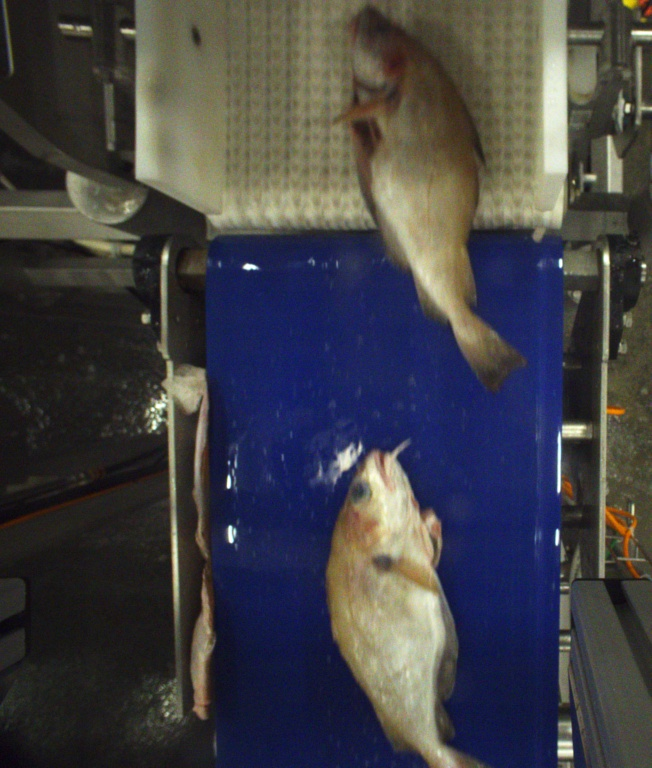BIB: (329, 437, 484, 768)
